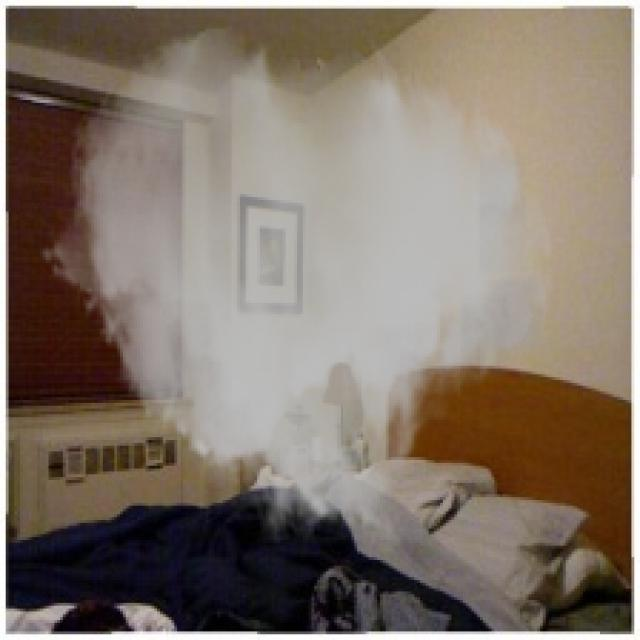smoke: (40, 23, 557, 557)
